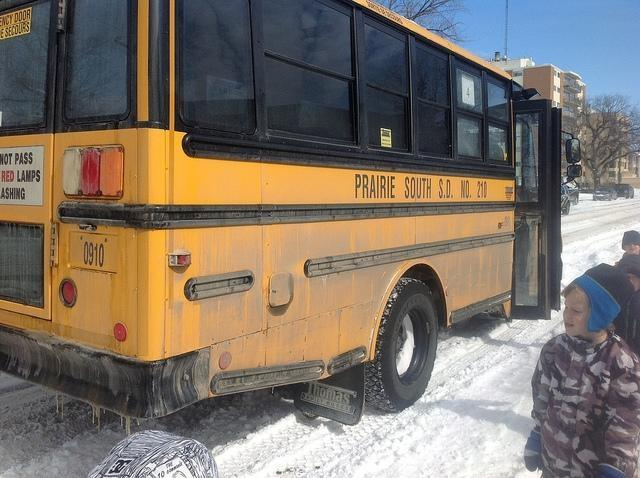bus: (0, 0, 584, 428)
car: (561, 170, 582, 216), (594, 186, 619, 200), (614, 183, 634, 200)
